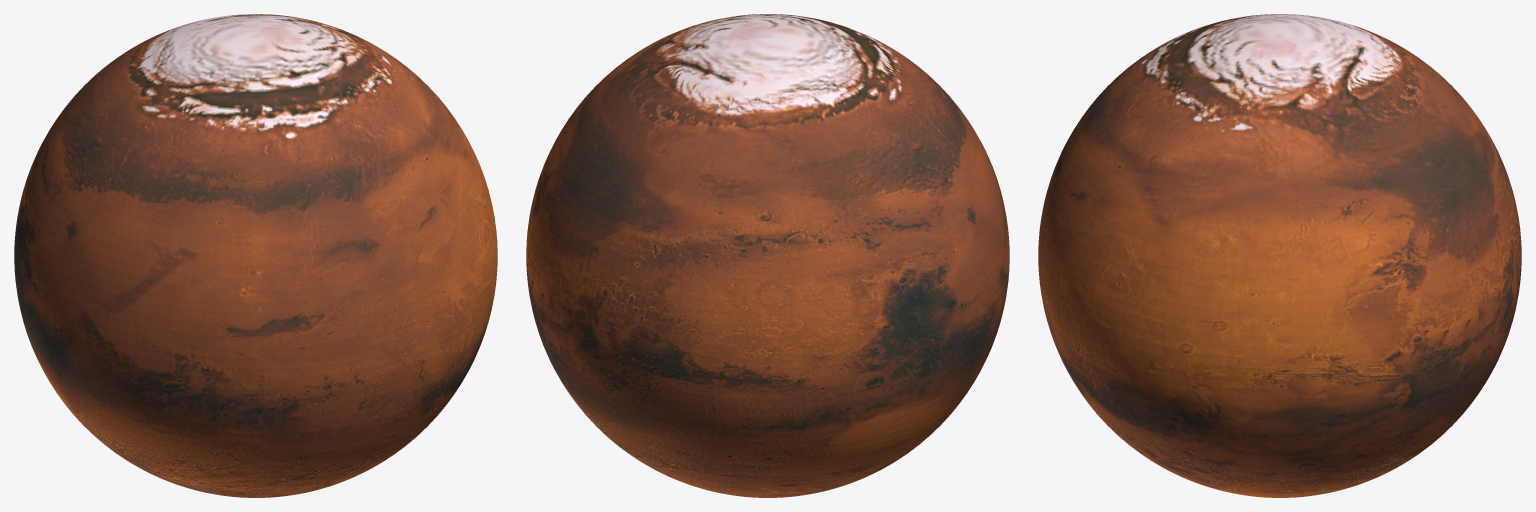
The model's file is mars.obj.
3 renders of one model, left to right at view 1: azimuth 30°, elevation 25°; view 2: azimuth 150°, elevation 25°; view 3: azimuth 270°, elevation 25°, orthographic.
Parts seen in each view (by area): view 1: Sphere; view 2: Sphere; view 3: Sphere.
Boxes of the visible parts, x1,y1,x2,y2 form: Sphere: [14, 14, 497, 497]; Sphere: [526, 14, 1009, 497]; Sphere: [1038, 14, 1521, 497].
Bounding box in the file's own units: 2 × 2 × 2.
1 material, 1 textured.
